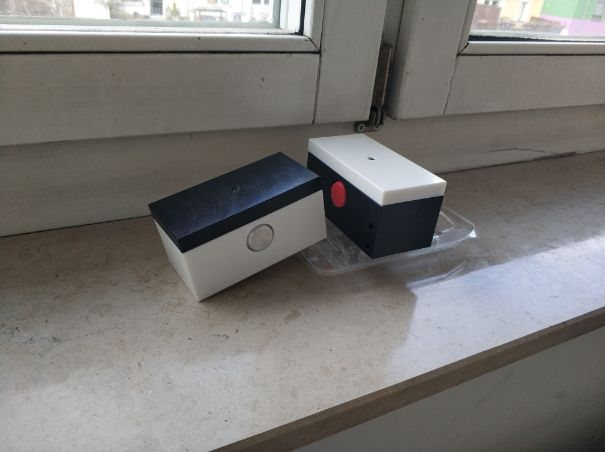black+white+silver: (145, 149, 331, 305)
white+black+red: (304, 132, 449, 263)
